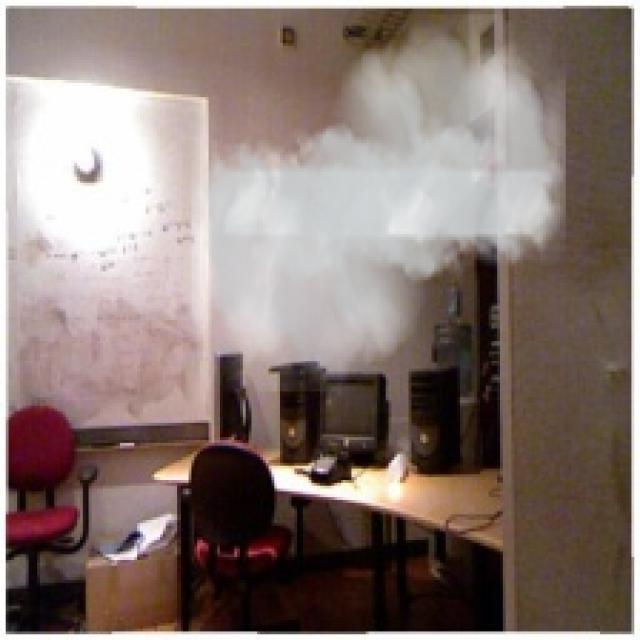Smoke: (191, 14, 566, 392)
